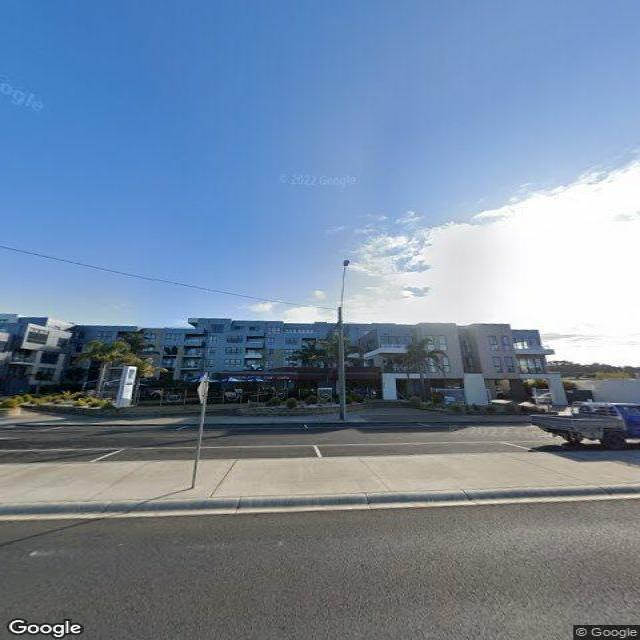concrete-pole: (338, 306, 346, 421)
streetlight: (340, 259, 350, 307)
